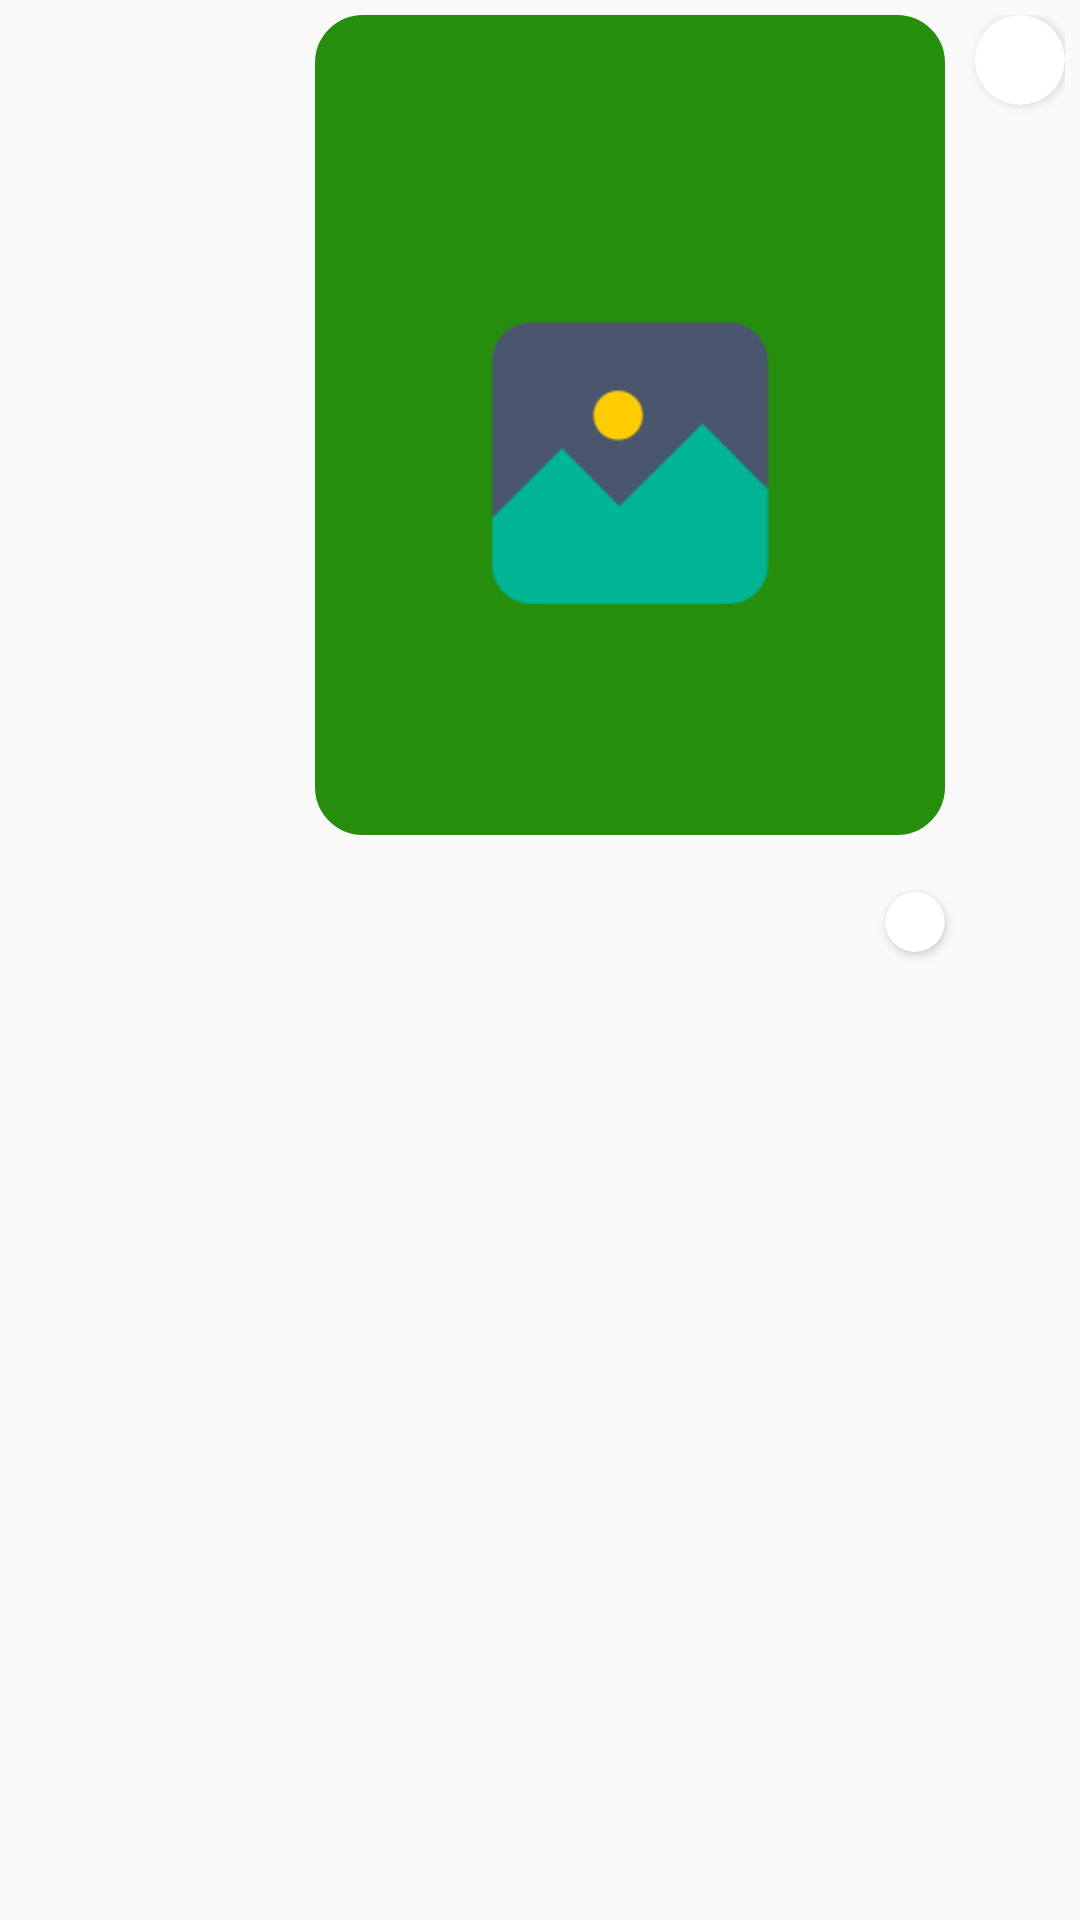

Icons on this 1080 x 1920 Android screen, each with the point to tap as (x=x, y=y):
picture wait load: (x=630, y=463)
